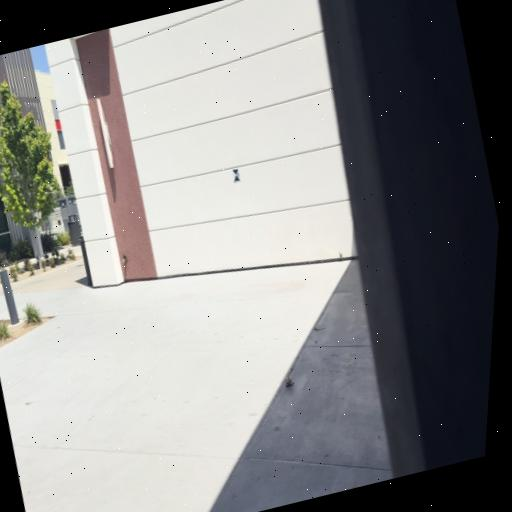target0: (232, 168, 243, 183)
